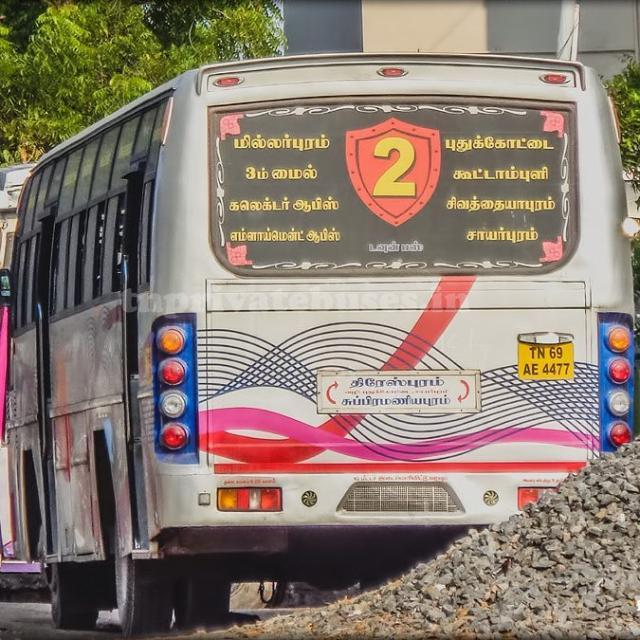Bus: (1, 49, 637, 637)
